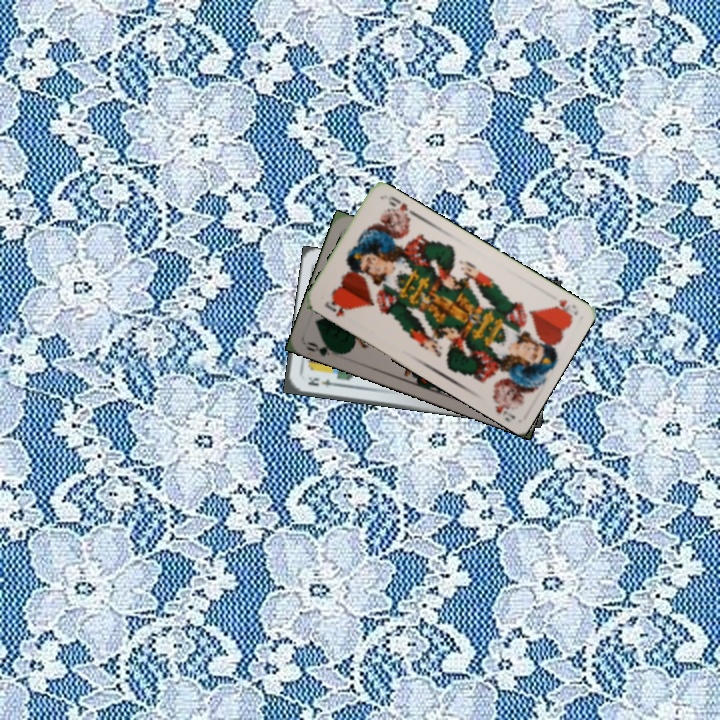EK: (304, 373, 340, 389)
GO: (302, 337, 343, 359)
HO: (321, 296, 354, 320), (548, 295, 579, 320)
